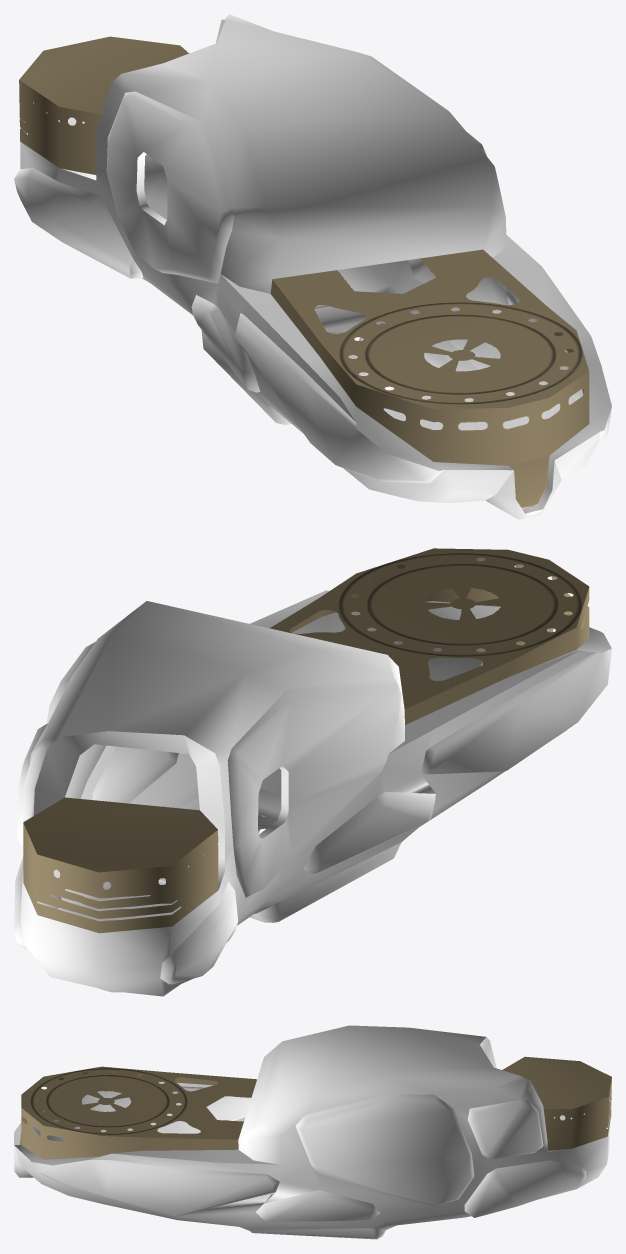
File: lj3_right.fbx
3 renders of one model, top to bottom at view 1: azimuth 30°, elevation 25°; view 2: azimuth 150°, elevation 25°; view 3: azimuth 270°, elevation 25°, orthographic. The views are drawn at different scales.
Visible parts, largest first — view 1: lj3_right; view 2: lj3_right; view 3: lj3_right.
Boxes of the visible parts, <box> form: lj3_right: <box>14,14,611,519</box>; lj3_right: <box>14,548,611,996</box>; lj3_right: <box>14,1025,611,1239</box>.
Bounding box in the file's own units: 0.2161 × 0.1753 × 0.5753.
